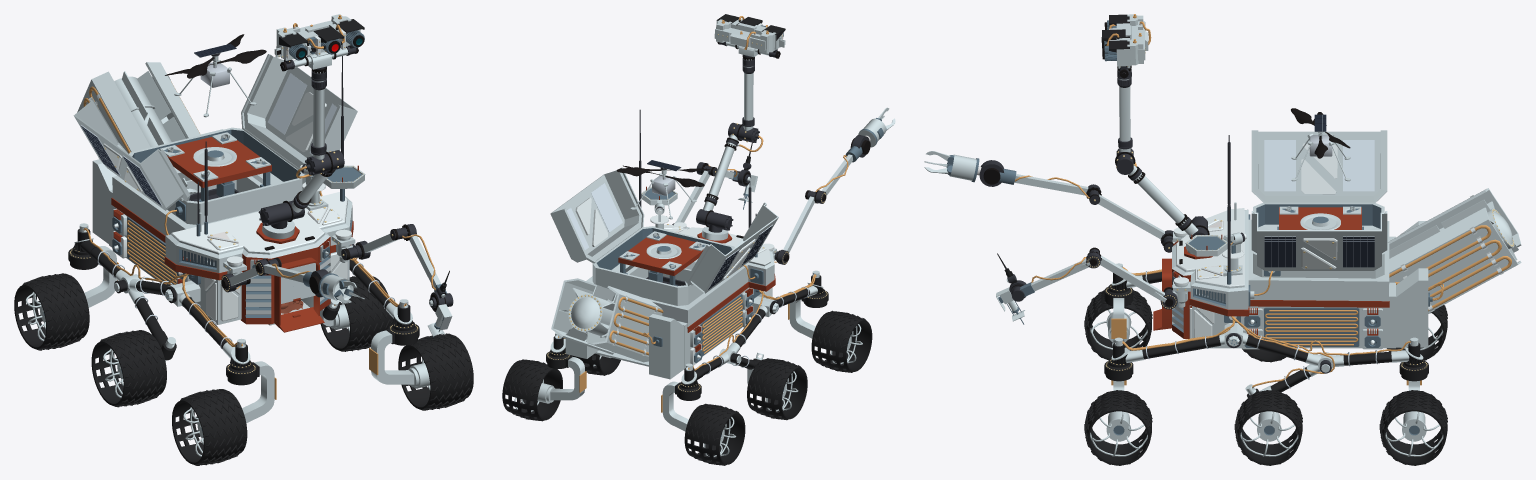
The model's file is planet-rover.glb.
3 renders of one model, left to right at view 1: azimuth 30°, elevation 25°; view 2: azimuth 150°, elevation 25°; view 3: azimuth 270°, elevation 25°, orthographic. The views are drawn at different scales.
Parts seen in each view (by area): view 1: base:grey (×2), base:koleso black (×2), base:light grey, base:dark grey, base:korpus red, base:black mat, wheel_FR:koleso black, wheel_RR:koleso black, wheel_MR:koleso black, wheel_FL:koleso black, base:provoda, wheel_ML:koleso black (+4 smaller); view 2: base:grey (×2), base:koleso black (×2), base:dark grey, base:black mat, base:provoda, wheel_FR:koleso black, wheel_MR:koleso black, wheel_RR:koleso black, wheel_RL:koleso black, base:korpus red, base:light grey, base:white (+3 smaller); view 3: base:grey (×2), base:koleso black (×2), base:dark grey, base:provoda, base:light grey, base:korpus red, base:white, base:black mat, wheel_RL:koleso black, wheel_ML:koleso black, base:batary, wheel_FL:koleso black (+6 smaller).
Part boxes in pixels (left/top/right/bottom): base:grey (×2): left=73, top=14, right=452, bottom=423; base:koleso black (×2): left=22, top=19, right=472, bottom=465; base:light grey: left=95, top=29, right=351, bottom=321; base:dark grey: left=112, top=30, right=447, bottom=337; base:korpus red: left=111, top=137, right=358, bottom=332; base:black mat: left=188, top=45, right=453, bottom=312; wheel_FR:koleso black: left=172, top=390, right=247, bottom=464; wheel_RR:koleso black: left=14, top=275, right=89, bottom=349; wheel_MR:koleso black: left=91, top=331, right=166, bottom=405; wheel_FL:koleso black: left=398, top=335, right=473, bottom=409; base:provoda: left=83, top=15, right=435, bottom=346; wheel_ML:koleso black: left=320, top=276, right=393, bottom=350; base:grey (×2): left=550, top=19, right=895, bottom=431; base:koleso black (×2): left=504, top=14, right=866, bottom=465; base:dark grey: left=596, top=15, right=886, bottom=362; base:black mat: left=639, top=41, right=869, bottom=285; base:provoda: left=558, top=16, right=848, bottom=370; wheel_FR:koleso black: left=811, top=312, right=872, bottom=371; wheel_MR:koleso black: left=747, top=359, right=807, bottom=419; wheel_RR:koleso black: left=684, top=405, right=745, bottom=464; wheel_RL:koleso black: left=502, top=360, right=562, bottom=420; base:korpus red: left=618, top=186, right=775, bottom=352; base:light grey: left=575, top=18, right=774, bottom=365; base:white: left=567, top=183, right=808, bottom=374; base:grey (×2): left=924, top=14, right=1521, bottom=395; base:koleso black (×2): left=997, top=14, right=1447, bottom=465; base:dark grey: left=946, top=20, right=1432, bottom=347; base:provoda: left=1014, top=14, right=1511, bottom=387; base:light grey: left=1109, top=28, right=1503, bottom=344; base:korpus red: left=1153, top=207, right=1389, bottom=338; base:white: left=1145, top=140, right=1377, bottom=388; base:black mat: left=979, top=66, right=1321, bottom=309; wheel_RL:koleso black: left=1381, top=390, right=1447, bottom=465; wheel_ML:koleso black: left=1236, top=390, right=1302, bottom=465; base:batary: left=1264, top=114, right=1374, bottom=267; wheel_FL:koleso black: left=1086, top=390, right=1151, bottom=465.
Size of the model in its own units: 1.11 by 1.6 by 2.28.
